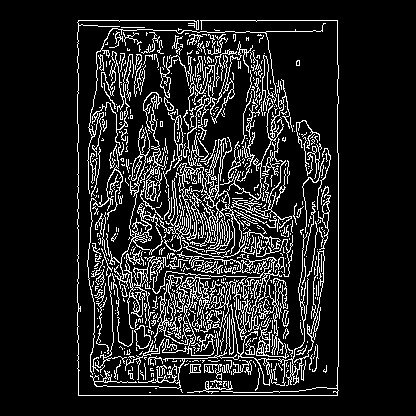buddha-sleeping: (166, 201, 210, 256)
